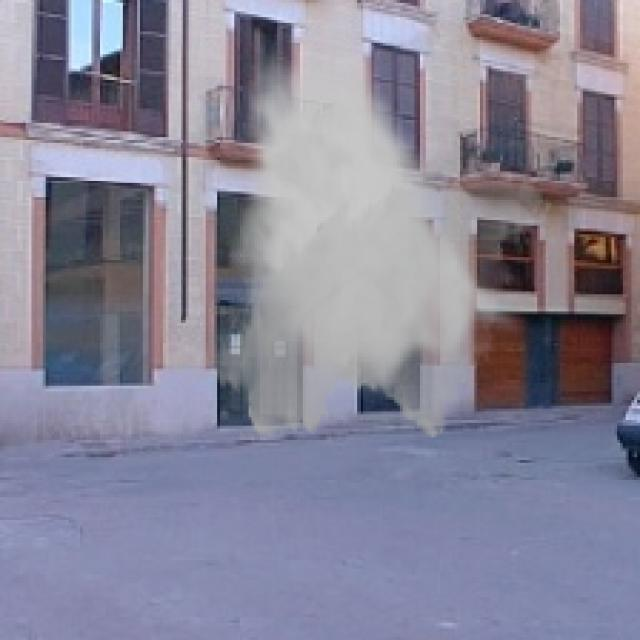smoke: (203, 34, 554, 449)
